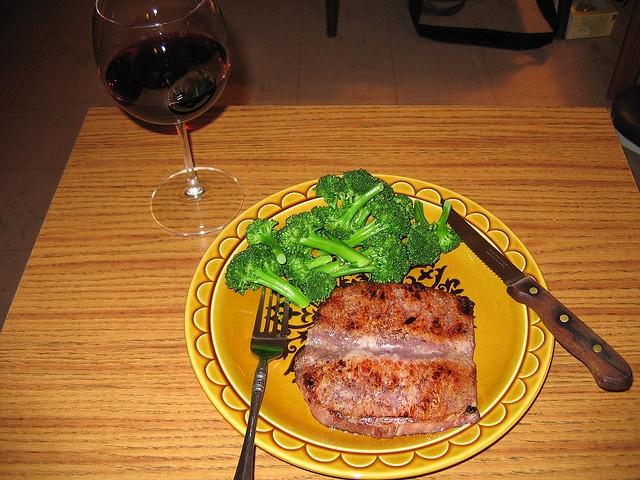broccoli: (224, 244, 311, 309), (276, 212, 374, 268), (312, 234, 411, 284), (340, 194, 414, 248), (323, 182, 384, 240), (245, 218, 286, 264), (282, 253, 333, 288), (403, 220, 441, 266), (432, 199, 463, 254), (343, 168, 379, 204), (302, 272, 337, 304), (312, 174, 340, 212), (310, 206, 334, 223)
